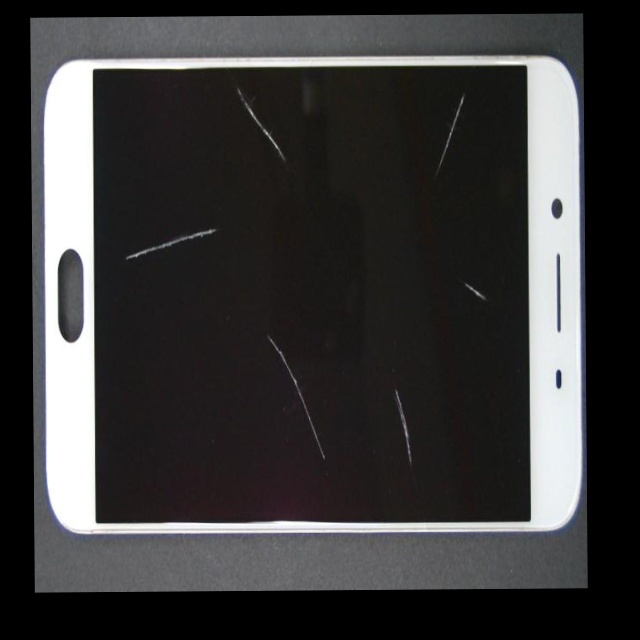scratch: (240, 230, 588, 591), (286, 176, 586, 425), (222, 264, 454, 572), (265, 14, 584, 164), (185, 93, 274, 323), (198, 112, 401, 175)
